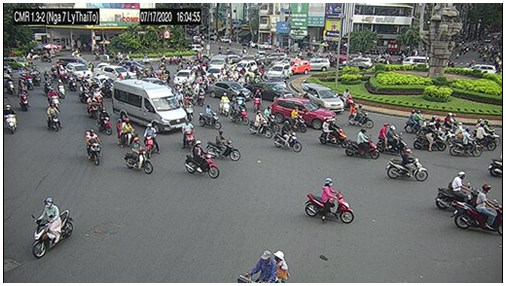xe_ban_tai: (91, 66, 137, 82)
xe_hoi: (270, 98, 337, 127), (301, 82, 342, 113), (208, 81, 252, 102), (250, 83, 292, 102), (66, 63, 93, 80), (267, 64, 290, 81), (3, 55, 29, 69), (172, 69, 194, 84), (288, 60, 309, 75), (344, 57, 371, 68), (464, 64, 496, 73), (309, 58, 331, 71), (205, 66, 225, 80), (236, 60, 257, 73), (210, 54, 227, 66)
xe_khach: (113, 81, 186, 132), (403, 55, 430, 66)
xe_may: (31, 197, 73, 258), (453, 184, 503, 235), (305, 176, 354, 223), (436, 171, 488, 210), (385, 147, 428, 182), (185, 140, 220, 179), (376, 123, 411, 156), (124, 136, 153, 174), (344, 129, 380, 159), (207, 129, 240, 161), (450, 127, 484, 158), (319, 118, 350, 150), (273, 121, 303, 153), (414, 123, 446, 151), (116, 117, 141, 151), (474, 117, 502, 146), (473, 123, 496, 152), (283, 107, 308, 133), (250, 111, 271, 140), (85, 128, 101, 166), (350, 104, 374, 129), (199, 104, 221, 130), (144, 122, 159, 159), (405, 109, 426, 133), (46, 102, 61, 133), (97, 107, 111, 137), (232, 98, 247, 126), (183, 119, 196, 149), (5, 105, 16, 133), (18, 88, 30, 113), (48, 88, 60, 111), (86, 95, 96, 119), (182, 96, 192, 120), (341, 89, 353, 108), (221, 92, 230, 116), (254, 89, 263, 112), (32, 67, 42, 86), (43, 78, 54, 95), (79, 83, 88, 102), (235, 90, 244, 108), (6, 77, 15, 93), (197, 85, 205, 102), (19, 73, 26, 92)
